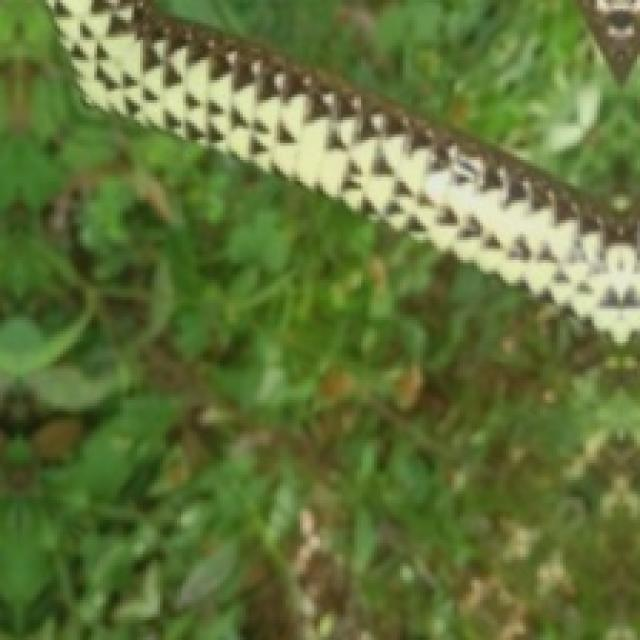reinhardts lined snake: (49, 0, 637, 340)
